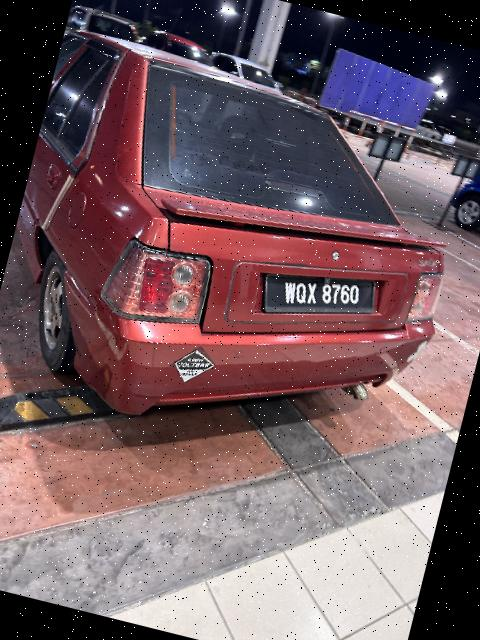License_Plate: (255, 255, 384, 345)
car: (1, 25, 480, 490)
